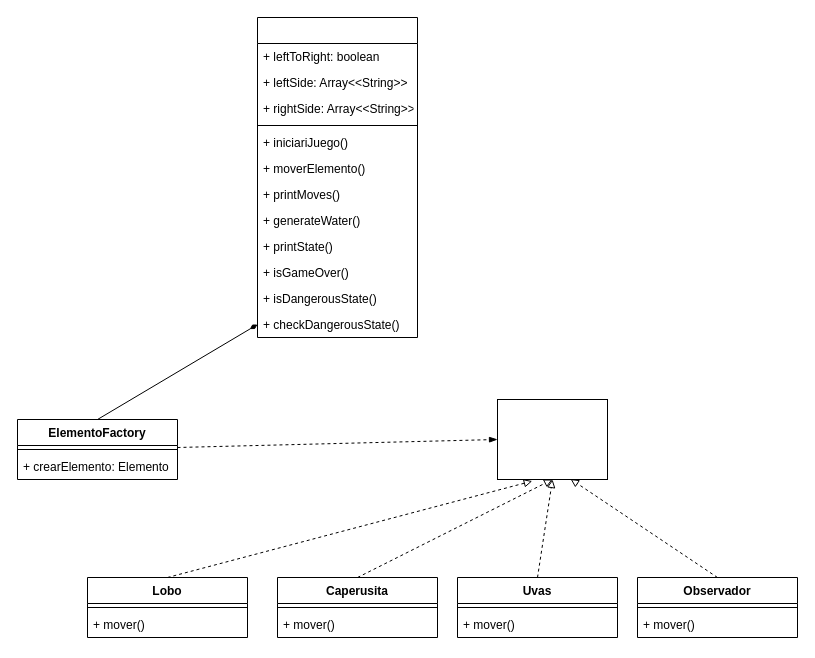
Image size: 815x658. Some labels were removed from this diagram. Here are the shapes that lost their labels. From the top down, the box of each, then its label:
(256, 16, 418, 338): JuegoLobo
(496, 398, 608, 480): «interface» Elemento mover()
